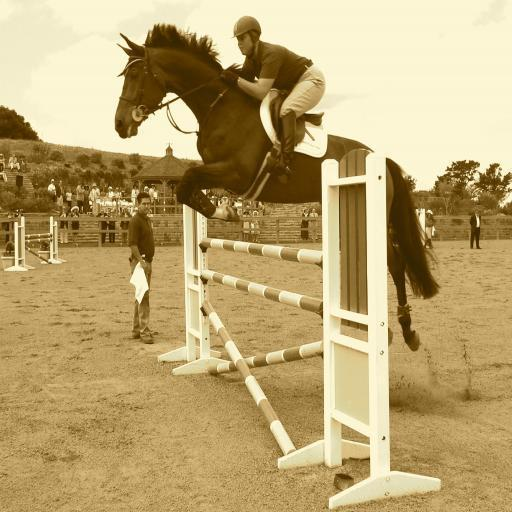horse: (114, 20, 442, 354)
